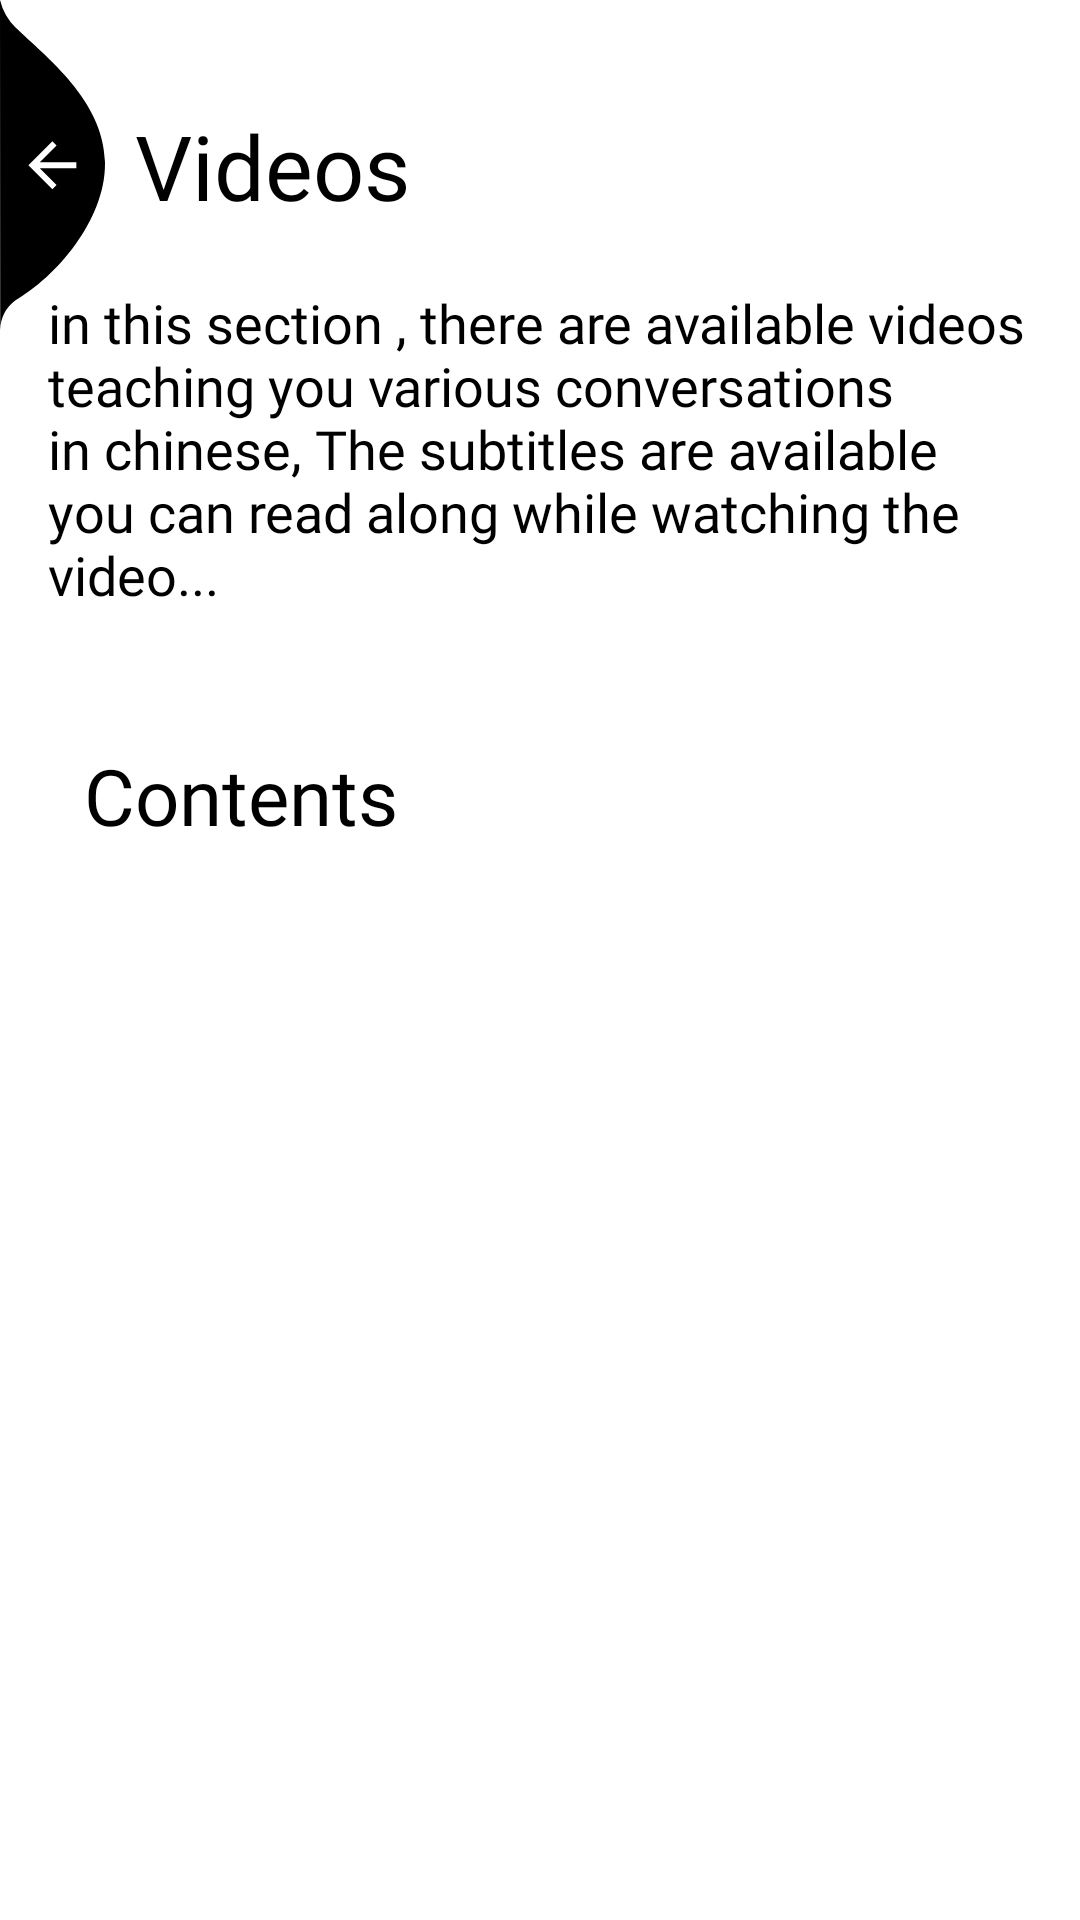

Icons on this 1080 × 1920 Android screen, each with the point to tap as (x=x, y=y):
back: (x=52, y=164)
